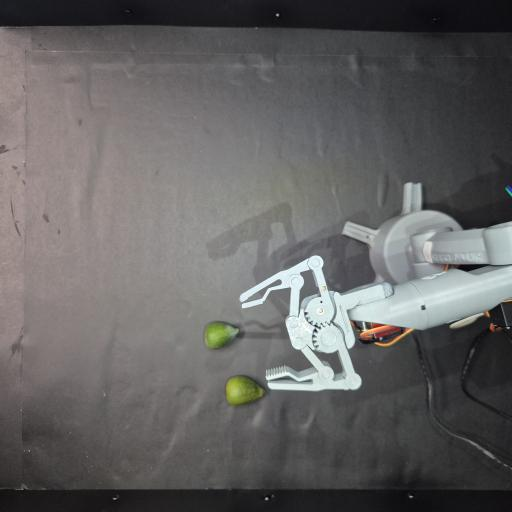higo: (226, 376, 265, 405), (204, 322, 239, 349)
